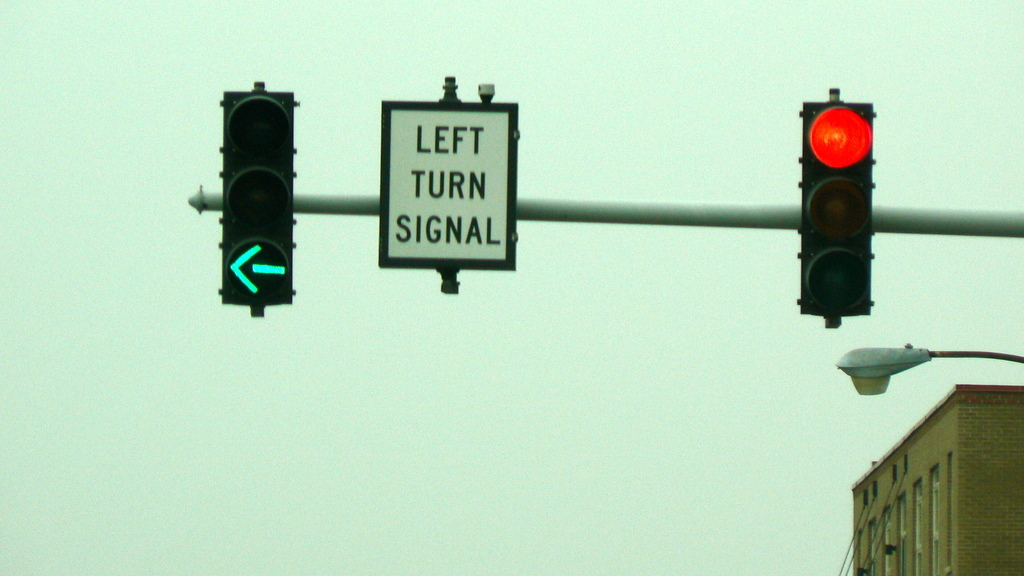red_light: (805, 104, 869, 313)
